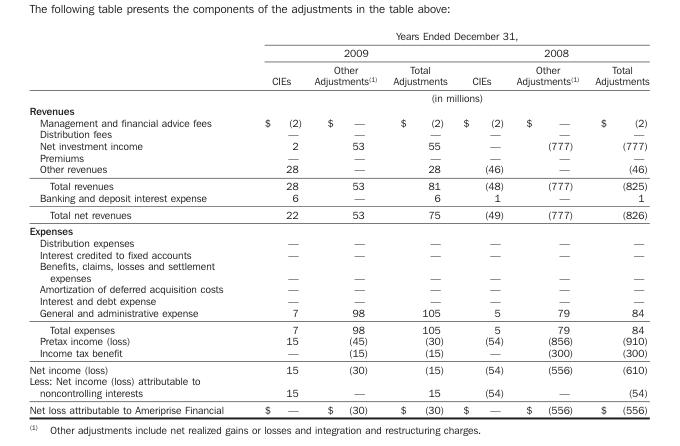table: (28, 29, 648, 415)
table column: (28, 29, 243, 415), (307, 29, 384, 415), (509, 29, 586, 415), (384, 29, 454, 415), (243, 29, 307, 415), (586, 29, 648, 415), (454, 29, 509, 415)
table column header: (28, 29, 648, 103)
table projected row header: (28, 222, 648, 236), (28, 103, 648, 116)
table row: (28, 60, 648, 89), (28, 374, 648, 400), (28, 259, 648, 282), (28, 43, 648, 60), (28, 205, 648, 222), (28, 176, 648, 191), (28, 400, 648, 415), (28, 29, 648, 43), (28, 89, 648, 103), (28, 162, 648, 176), (28, 191, 648, 205), (28, 222, 648, 236), (28, 306, 648, 320), (28, 320, 648, 334), (28, 346, 648, 360), (28, 360, 648, 374), (28, 103, 648, 116), (28, 127, 648, 139), (28, 139, 648, 151), (28, 236, 648, 248), (28, 282, 648, 294), (28, 294, 648, 306), (28, 334, 648, 346), (28, 116, 648, 127), (28, 151, 648, 162), (28, 248, 648, 259)
table spanning cell: (243, 29, 648, 43), (243, 89, 648, 103), (243, 43, 454, 60), (454, 43, 648, 60)
